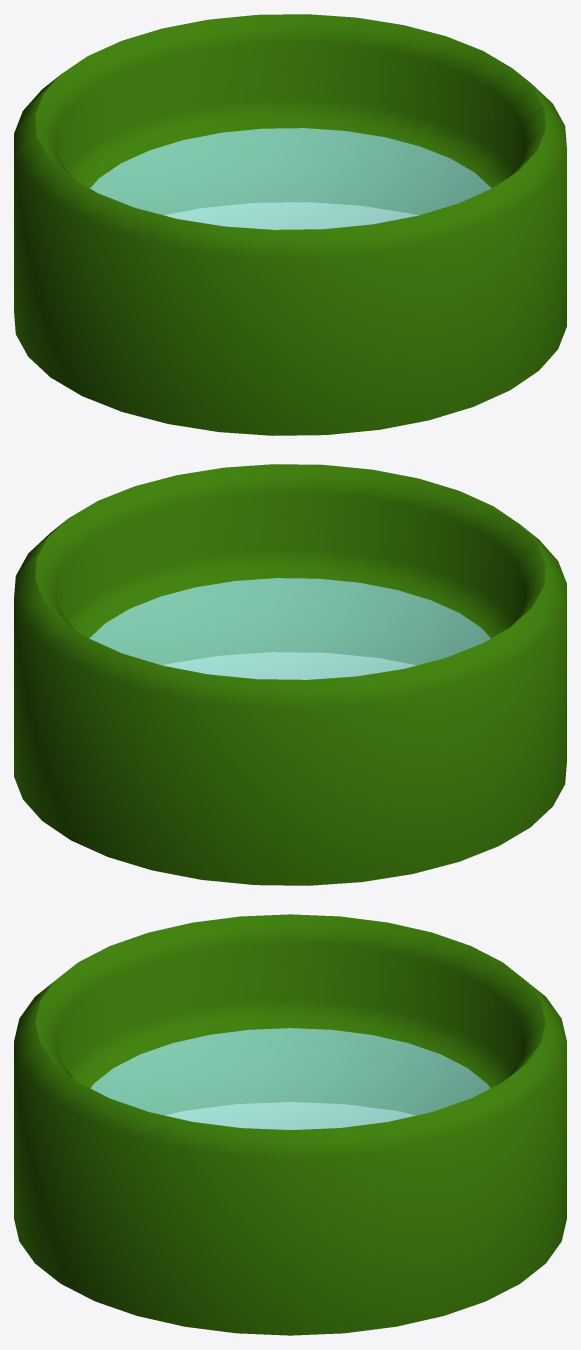
Rendered from WaterCat.fbx.
3 renders of one model, top to bottom at view 1: azimuth 30°, elevation 25°; view 2: azimuth 150°, elevation 25°; view 3: azimuth 270°, elevation 25°, orthographic.
Visible parts, largest first — view 1: WaterCatTvRoom; view 2: WaterCatTvRoom; view 3: WaterCatTvRoom.
Part boxes in pixels (bbox=[...]): WaterCatTvRoom: bbox=[14, 14, 566, 435]; WaterCatTvRoom: bbox=[14, 464, 566, 885]; WaterCatTvRoom: bbox=[14, 914, 566, 1335].
Size of the model in its own units: 49.31 by 19.33 by 49.31.
